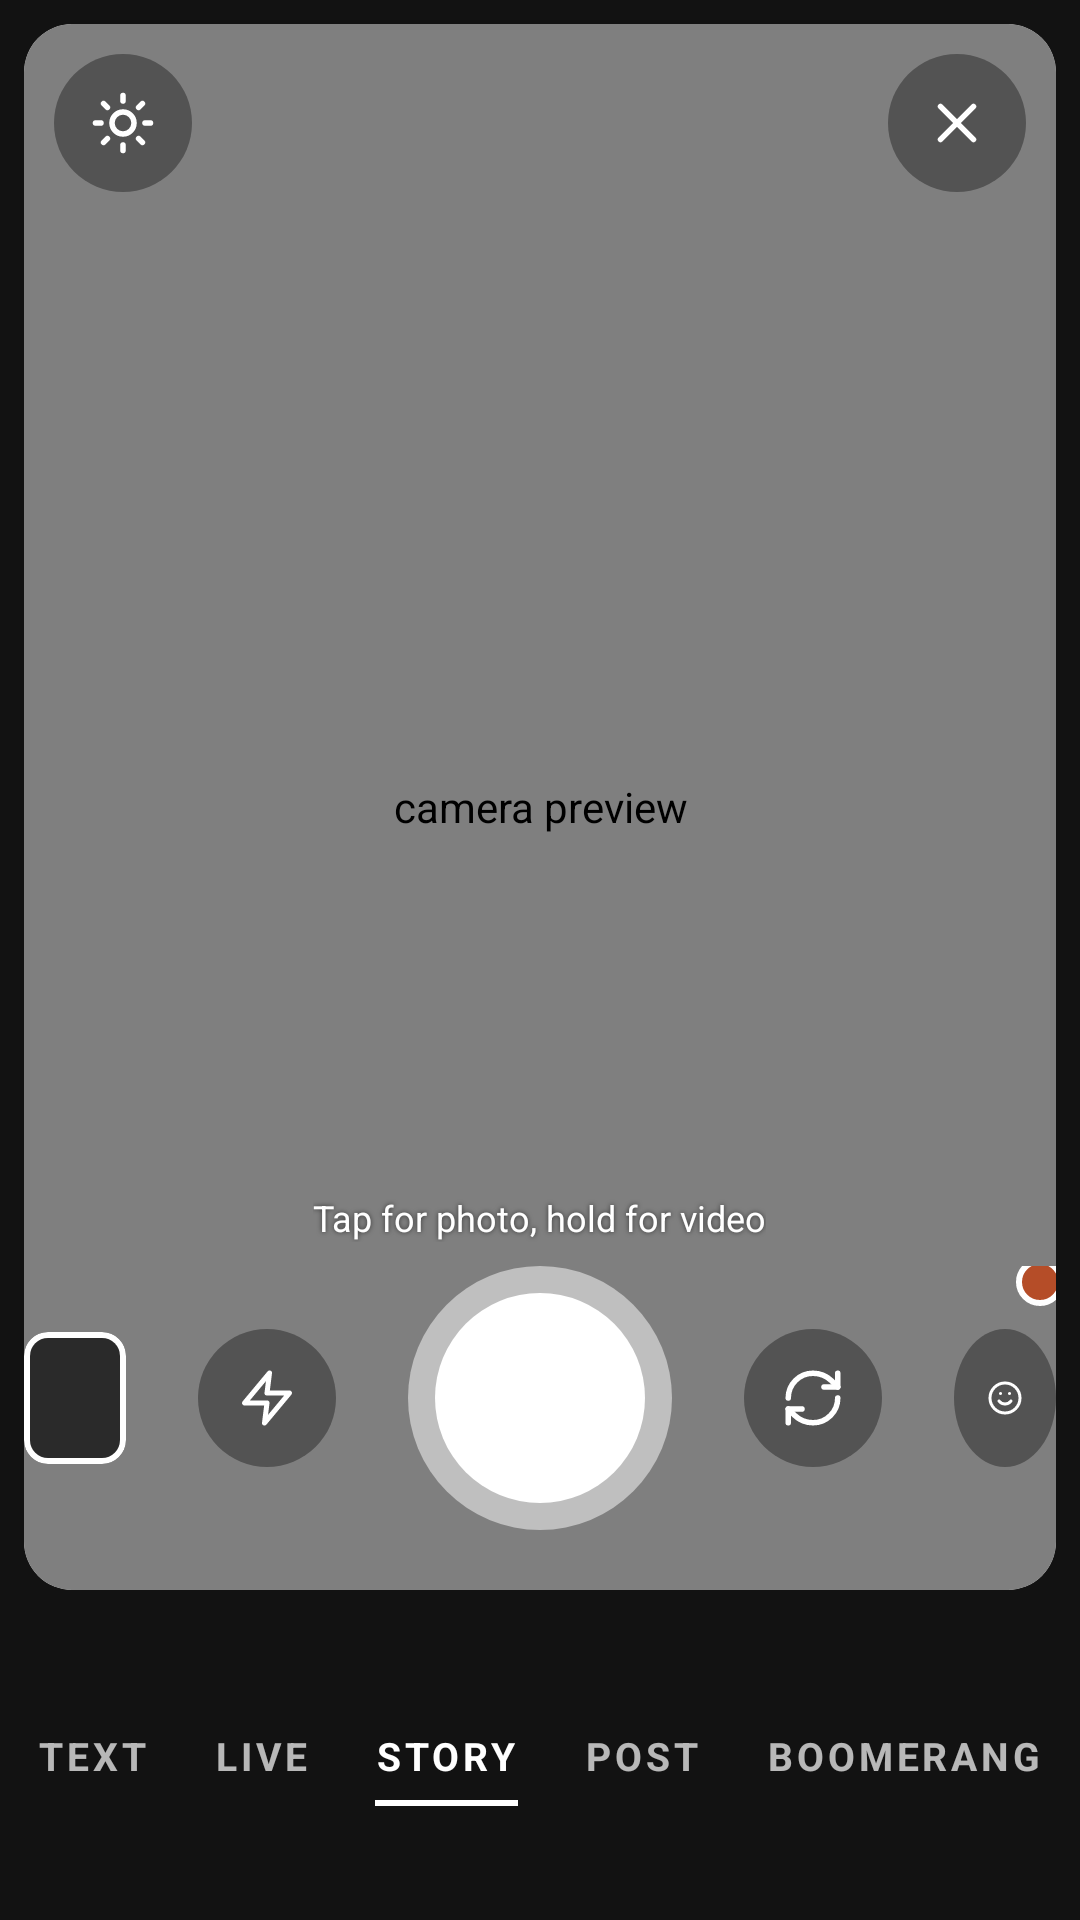

Where icons sit on this 1080w x 1920h app screen, as (x1, y1, x2, y2):
close icon: (888, 54, 1026, 192)
emoji icon: (954, 1329, 1056, 1467)
flash icon: (198, 1329, 336, 1467)
flip camera: (744, 1329, 882, 1467)
shutter button: (408, 1266, 672, 1530)
